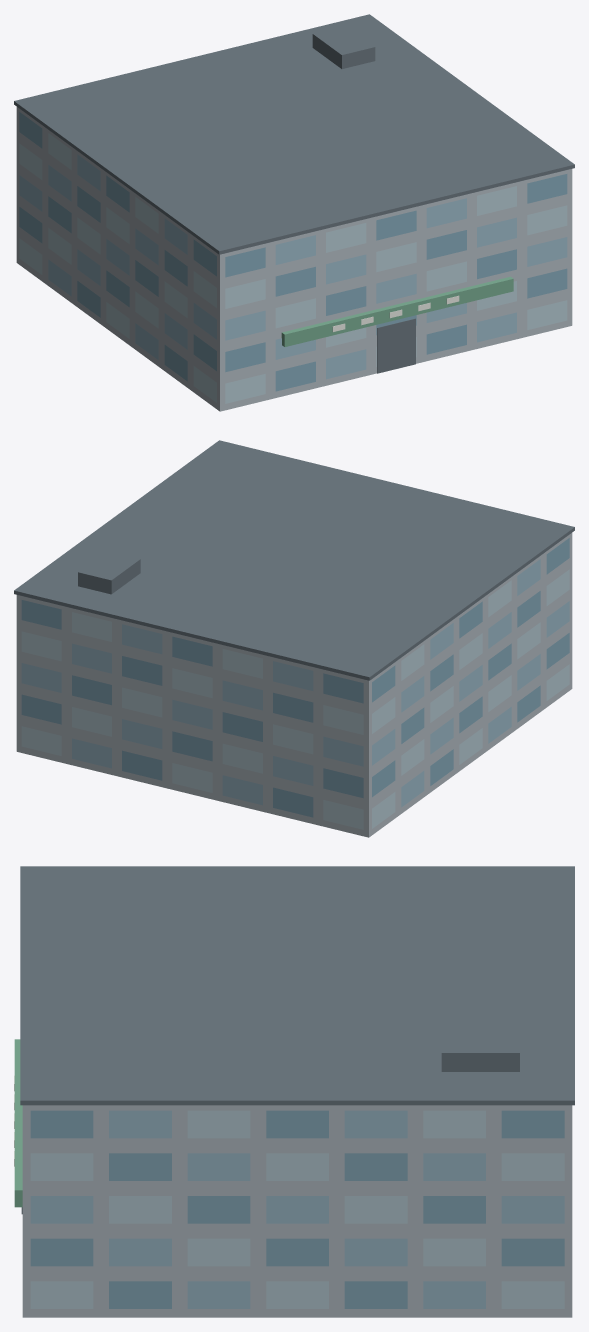
File: korea-building-2-compact.glb
The picture shows the model from 3 angles, top to bottom: view 1: azimuth 30°, elevation 25°; view 2: azimuth 150°, elevation 25°; view 3: azimuth 270°, elevation 25°; orthographic projection. The views are drawn at different scales.
Bounding box in the file's own units: 10.6 × 5 × 10.72.
